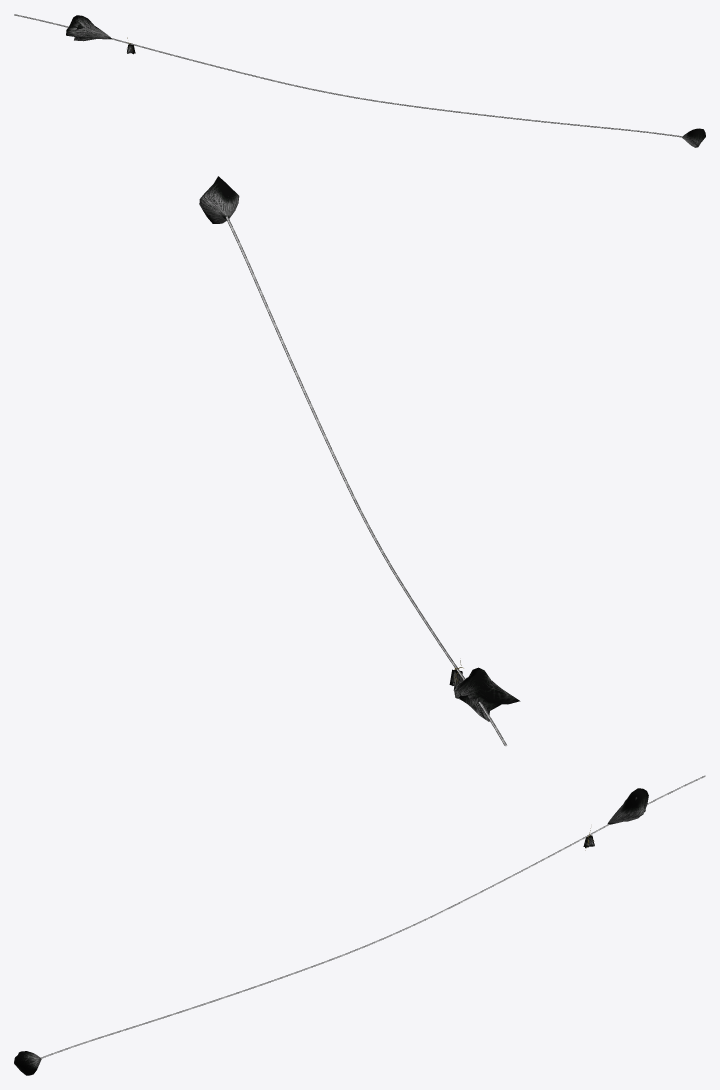
File: INST_MIRK_WEBZIPLINEB.fbx
3 renders of one model, top to bottom at view 1: azimuth 30°, elevation 25°; view 2: azimuth 150°, elevation 25°; view 3: azimuth 270°, elevation 25°, orthographic. The views are drawn at different scales.
Visible parts, largest first — view 1: INST_MIRK_WEBZIPLINEB; view 2: INST_MIRK_WEBZIPLINEB; view 3: INST_MIRK_WEBZIPLINEB.
Boxes of the visible parts, x1,y1,x2,y2 form: INST_MIRK_WEBZIPLINEB: (14, 14, 705, 147); INST_MIRK_WEBZIPLINEB: (199, 176, 520, 745); INST_MIRK_WEBZIPLINEB: (14, 775, 705, 1075).
Bounding box in the file's own units: 376849 × 38598 × 426668.
Materials: 4 (4 with a texture image).
